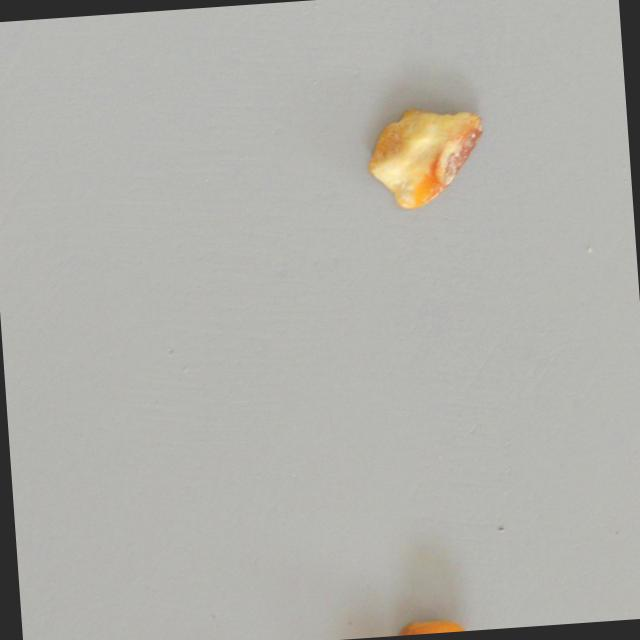dañado: (361, 102, 491, 211), (388, 611, 480, 636)
